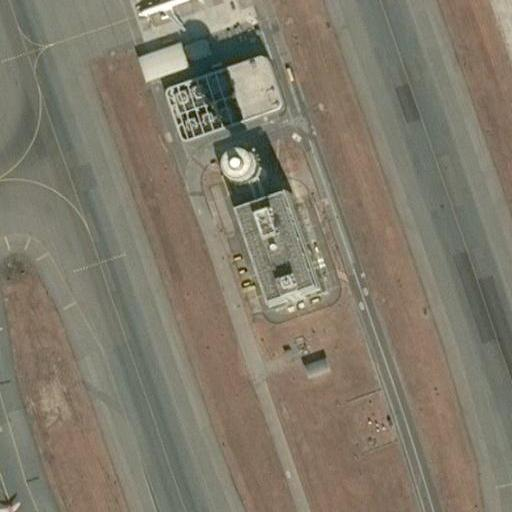Aircraft: (127, 0, 208, 32), (0, 488, 59, 512)
